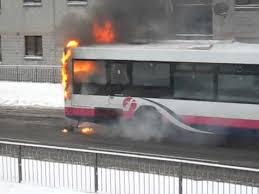fire: (58, 37, 93, 97), (89, 17, 115, 41)
